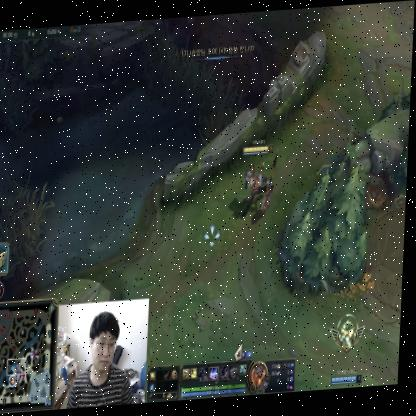streamer: (69, 311, 141, 409)
